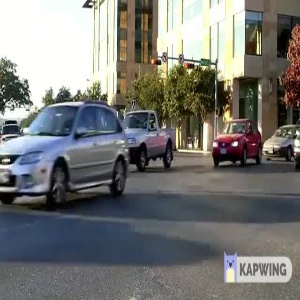car: (1, 104, 131, 203), (209, 113, 265, 169)
truck: (120, 105, 180, 174)
